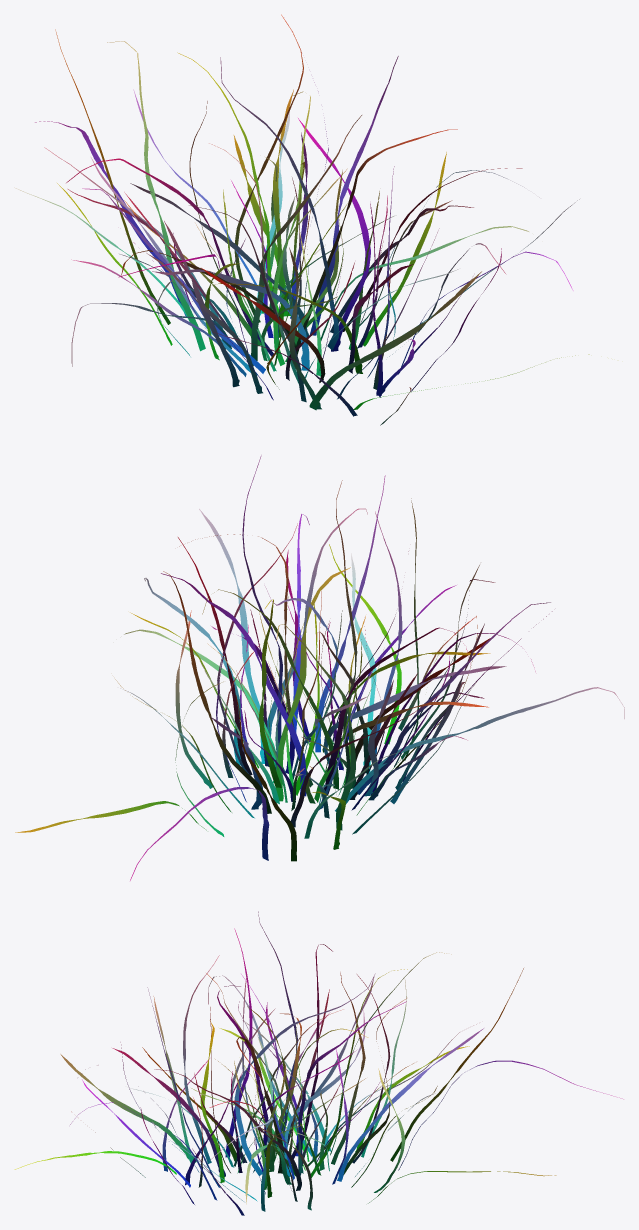
Rendered from Wild_Grass_vlkhcbxia_Raw_vlkhcbxia_VarH_LOD0.fbx.
3 views of the same model, one above another, from view 1: azimuth 30°, elevation 25°; view 2: azimuth 150°, elevation 25°; view 3: azimuth 270°, elevation 25° (orthographic). The views are drawn at different scales.
Visible parts, largest first — view 1: _9pu1_VarH_High; view 2: _9pu1_VarH_High; view 3: _9pu1_VarH_High.
Part boxes in pixels (x1=…): _9pu1_VarH_High: x1=14, y1=14, x2=589, y2=425; _9pu1_VarH_High: x1=15, y1=455, x2=624, y2=880; _9pu1_VarH_High: x1=14, y1=911, x2=623, y2=1215.
Size of the model in its own units: 19.03 by 11.48 by 26.29.
